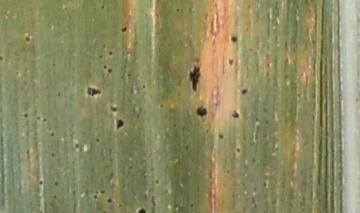tarspot: (186, 64, 202, 93), (86, 86, 103, 98), (195, 104, 207, 118), (114, 117, 125, 130), (238, 86, 249, 96), (23, 33, 32, 45), (229, 34, 239, 44), (230, 109, 240, 119), (109, 103, 118, 114), (226, 56, 234, 68), (119, 24, 128, 34), (135, 206, 147, 213), (216, 132, 225, 141), (187, 201, 196, 210), (100, 41, 108, 51), (48, 131, 56, 140), (192, 56, 200, 65), (235, 146, 242, 156), (93, 136, 101, 144), (52, 179, 60, 187), (106, 67, 113, 75), (55, 90, 62, 98), (105, 197, 112, 205), (98, 188, 106, 195), (158, 102, 165, 110), (125, 71, 133, 78), (51, 193, 58, 201), (49, 151, 55, 160), (183, 143, 189, 152), (99, 3, 106, 10), (153, 178, 160, 185), (116, 202, 123, 209), (107, 49, 113, 57), (74, 142, 80, 150), (41, 116, 47, 124), (174, 7, 182, 13), (97, 52, 103, 60), (247, 47, 255, 53), (22, 112, 28, 119), (225, 168, 231, 175), (92, 194, 98, 201), (38, 179, 44, 186), (50, 61, 57, 67), (102, 64, 107, 72), (35, 115, 41, 121), (140, 83, 146, 89), (354, 97, 360, 103), (1, 55, 4, 62)
